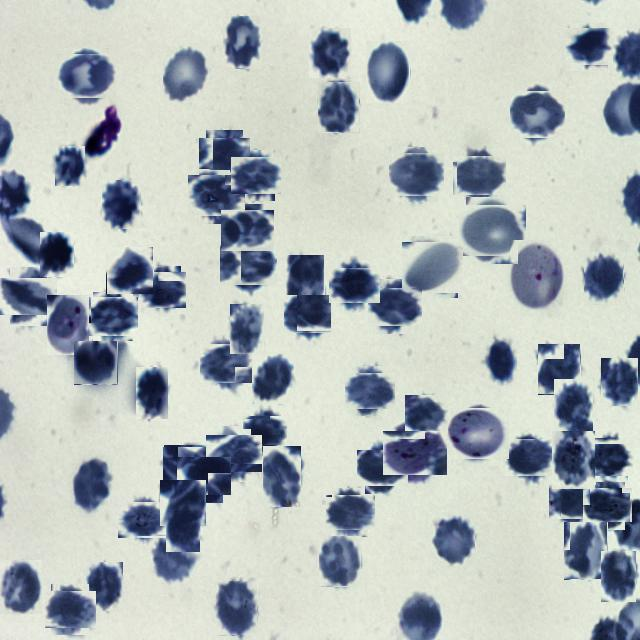red blood cell: (462, 201, 522, 260), (404, 239, 460, 295), (162, 46, 210, 104), (366, 41, 410, 104), (285, 255, 325, 324), (512, 88, 564, 140), (61, 51, 112, 102), (552, 431, 596, 490), (564, 522, 608, 580), (223, 240, 273, 290), (392, 150, 441, 200), (163, 446, 213, 495), (215, 581, 258, 636), (263, 444, 301, 506), (192, 171, 240, 220), (431, 515, 475, 567), (0, 560, 42, 614), (5, 272, 52, 320), (210, 430, 258, 477), (319, 536, 362, 588), (223, 207, 270, 254), (106, 248, 154, 294), (538, 344, 581, 395), (372, 283, 418, 330), (180, 453, 227, 499), (318, 82, 360, 133), (584, 252, 624, 305), (160, 480, 206, 526), (203, 341, 250, 386), (252, 354, 294, 404), (309, 28, 351, 78), (457, 152, 502, 198), (90, 294, 136, 339), (223, 16, 262, 69), (554, 379, 593, 432), (586, 434, 632, 478), (102, 180, 142, 230), (72, 457, 109, 511), (48, 587, 92, 632), (361, 446, 405, 490), (507, 436, 551, 480), (122, 498, 166, 542), (202, 134, 246, 178), (74, 341, 118, 385), (234, 154, 278, 198), (286, 292, 330, 335), (332, 264, 376, 307), (328, 492, 372, 534), (348, 370, 392, 412), (150, 542, 196, 582), (86, 562, 123, 611), (601, 551, 636, 602), (601, 358, 638, 406), (552, 482, 594, 524), (587, 484, 629, 526), (406, 393, 448, 435), (142, 268, 184, 310), (568, 26, 610, 68), (136, 367, 169, 420), (230, 304, 264, 354), (482, 339, 516, 387), (40, 232, 74, 277), (166, 508, 200, 552), (247, 412, 284, 450), (55, 146, 86, 187)
ring: (510, 240, 561, 312), (448, 405, 506, 463), (388, 426, 442, 480), (47, 295, 89, 355)
